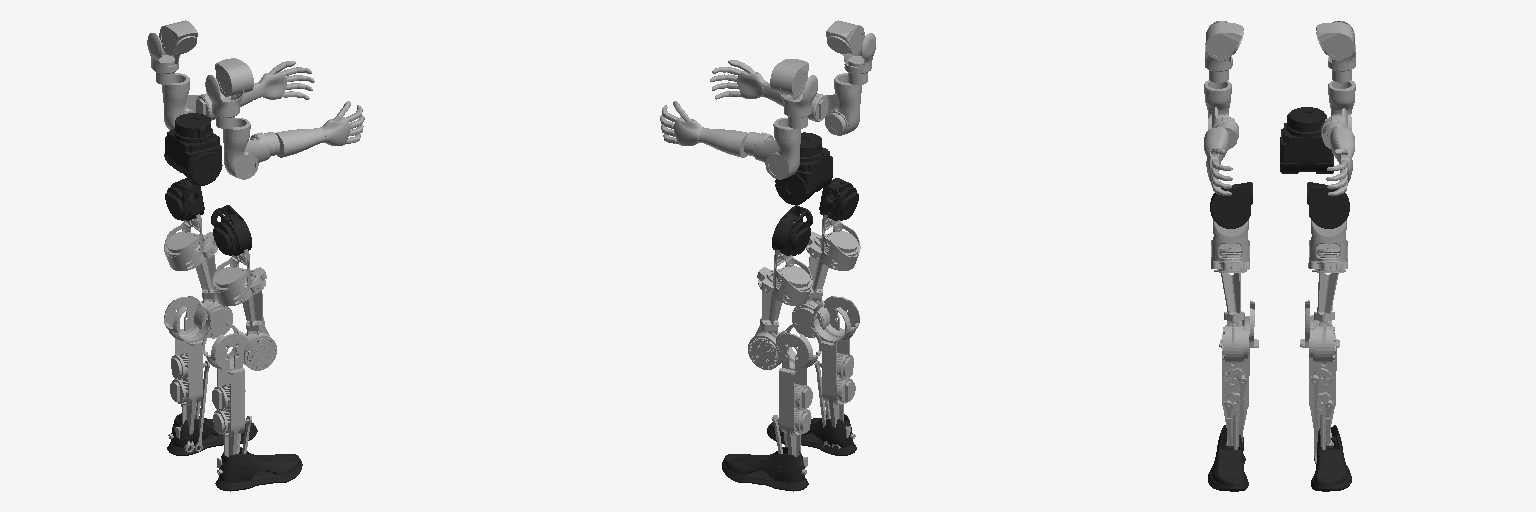
--- Facts derived from the render (not from the file) ---
3 views of the same robot in one strip: view 1: azimuth 30°, elevation 25°; view 2: azimuth 150°, elevation 25°; view 3: azimuth 270°, elevation 25° (orthographic).
Model g1_12dof with 32 links and 31 joints (23 revolute, 7 fixed, 1 floating), rooted at world, posed every joint at zero.
Links seen in each view (by area): view 1: left_knee_link, right_knee_link, pelvis, right_ankle_roll_link, right_wrist_roll_rubber_hand, right_hip_yaw_link, left_hip_yaw_link, left_wrist_roll_rubber_hand, right_hip_roll_link, left_hip_roll_link, right_shoulder_yaw_link, right_hip_pitch_link (+8 smaller); view 2: right_knee_link, left_knee_link, left_ankle_roll_link, pelvis, left_wrist_roll_rubber_hand, left_hip_yaw_link, right_hip_yaw_link, right_wrist_roll_rubber_hand, right_hip_roll_link, left_hip_roll_link, right_ankle_roll_link, right_shoulder_yaw_link (+9 smaller); view 3: pelvis, left_knee_link, right_knee_link, left_hip_yaw_link, right_hip_yaw_link, right_ankle_roll_link, left_ankle_roll_link, right_hip_pitch_link, left_hip_pitch_link, right_wrist_roll_rubber_hand, left_wrist_roll_rubber_hand, left_hip_roll_link (+7 smaller).
Boxes of the visible links, <box> form: left_knee_link: <box>164,296,210,452</box>; right_knee_link: <box>202,324,251,468</box>; pelvis: <box>164,113,222,185</box>; right_ankle_roll_link: <box>215,447,302,491</box>; right_wrist_roll_rubber_hand: <box>275,101,364,157</box>; right_hip_yaw_link: <box>242,267,276,370</box>; left_hip_yaw_link: <box>194,232,232,338</box>; left_wrist_roll_rubber_hand: <box>220,61,314,106</box>; right_hip_roll_link: <box>212,222,252,305</box>; left_hip_roll_link: <box>164,214,204,270</box>; right_shoulder_yaw_link: <box>223,118,258,179</box>; right_hip_pitch_link: <box>211,205,251,255</box>; right_knee_link: <box>813,296,859,448</box>; left_knee_link: <box>772,323,821,467</box>; left_ankle_roll_link: <box>722,447,808,491</box>; pelvis: <box>775,132,832,204</box>; left_wrist_roll_rubber_hand: <box>660,101,747,157</box>; left_hip_yaw_link: <box>748,267,788,369</box>; right_hip_yaw_link: <box>792,232,829,337</box>; right_wrist_roll_rubber_hand: <box>710,60,803,106</box>; right_hip_roll_link: <box>819,214,860,270</box>; left_hip_roll_link: <box>772,222,812,305</box>; right_ankle_roll_link: <box>767,414,856,455</box>; right_shoulder_yaw_link: <box>825,73,861,135</box>; pelvis: <box>1280,107,1333,173</box>; left_knee_link: <box>1300,300,1339,463</box>; right_knee_link: <box>1219,300,1258,449</box>; left_hip_yaw_link: <box>1309,259,1347,366</box>; right_hip_yaw_link: <box>1212,259,1249,366</box>; right_ankle_roll_link: <box>1208,425,1248,491</box>; left_ankle_roll_link: <box>1311,425,1351,491</box>; right_hip_pitch_link: <box>1210,182,1252,228</box>; left_hip_pitch_link: <box>1307,182,1349,228</box>; right_wrist_roll_rubber_hand: <box>1204,127,1232,195</box>; left_wrist_roll_rubber_hand: <box>1326,128,1354,195</box>; left_hip_roll_link: <box>1308,220,1347,269</box>.
Size in the robot's own frame: 0.4388 by 0.3616 by 1.14 metres.
Meshes: 27 distinct files referenced, 23 mesh visuals loaded (23 binary STL); not drawn: 4 (reference not matched to a file when rendering).

The robot description file, URDF, robot "g1_12dof":
<robot name="g1_12dof">
  <mujoco>
    <compiler meshdir="meshes" discardvisual="false"/>
  </mujoco>

  <!-- [CAUTION] uncomment when convert to mujoco -->
  <link name="world"></link>
  <joint name="floating_base_joint" type="floating">
    <parent link="world"/>
    <child link="pelvis"/>
  </joint>

  <link name="pelvis">
    <inertial>
      <origin xyz="0 0 -0.07605" rpy="0 0 0"/>
      <mass value="3.813"/>
      <inertia ixx="0.010549" ixy="0" ixz="2.1E-06" iyy="0.0093089" iyz="0" izz="0.0079184"/>
    </inertial>
    <visual>
      <origin xyz="0 0 0" rpy="0 0 0"/>
      <geometry>
        <mesh filename="meshes/pelvis.STL"/>
      </geometry>
      <material name="dark">
        <color rgba="0.2 0.2 0.2 1"/>
      </material>
    </visual>
  </link>
  <link name="pelvis_contour_link">
    <inertial>
      <origin xyz="0 0 0" rpy="0 0 0"/>
      <mass value="0.001"/>
      <inertia ixx="1e-7" ixy="0" ixz="0" iyy="1e-7" iyz="0" izz="1e-7"/>
    </inertial>
    <visual>
      <origin xyz="0 0 0" rpy="0 0 0"/>
      <geometry>
        <mesh filename="meshes/pelvis_contour_link.STL"/>
      </geometry>
      <material name="white">
        <color rgba="0.7 0.7 0.7 1"/>
      </material>
    </visual>
    <collision>
      <origin xyz="0 0 0" rpy="0 0 0"/>
      <geometry>
        <mesh filename="meshes/pelvis_contour_link.STL"/>
      </geometry>
    </collision>
  </link>
  <joint name="pelvis_contour_joint" type="fixed">
    <parent link="pelvis"/>
    <child link="pelvis_contour_link"/>
  </joint>

  <!-- Legs -->
  <link name="left_hip_pitch_link">
    <inertial>
      <origin xyz="0.002741 0.047791 -0.02606" rpy="0 0 0"/>
      <mass value="1.35"/>
      <inertia ixx="0.001811" ixy="3.68E-05" ixz="-3.44E-05" iyy="0.0014193" iyz="0.000171" izz="0.0012812"/>
    </inertial>
    <visual>
      <origin xyz="0 0 0" rpy="0 0 0"/>
      <geometry>
        <mesh filename="meshes/left_hip_pitch_link.STL"/>
      </geometry>
      <material name="dark">
        <color rgba="0.2 0.2 0.2 1"/>
      </material>
    </visual>
    <collision>
      <origin xyz="0 0 0" rpy="0 0 0"/>
      <geometry>
        <mesh filename="meshes/left_hip_pitch_link.STL"/>
      </geometry>
    </collision>
  </link>
  <joint name="left_hip_pitch_joint" type="revolute">
    <origin xyz="0 0.064452 -0.1027" rpy="0 0 0"/>
    <parent link="pelvis"/>
    <child link="left_hip_pitch_link"/>
    <axis xyz="0 1 0"/>
    <limit lower="-2.5307" upper="2.8798" effort="88" velocity="32"/>
  </joint>
  <link name="left_hip_roll_link">
    <inertial>
      <origin xyz="0.029812 -0.001045 -0.087934" rpy="0 0 0"/>
      <mass value="1.52"/>
      <inertia ixx="0.0023773" ixy="-3.8E-06" ixz="-0.0003908" iyy="0.0024123" iyz="1.84E-05" izz="0.0016595"/>
    </inertial>
    <visual>
      <origin xyz="0 0 0" rpy="0 0 0"/>
      <geometry>
        <mesh filename="meshes/left_hip_roll_link.STL"/>
      </geometry>
      <material name="white">
        <color rgba="0.7 0.7 0.7 1"/>
      </material>
    </visual>
    <collision>
      <origin xyz="0 0 0" rpy="0 0 0"/>
      <geometry>
        <mesh filename="meshes/left_hip_roll_link.STL"/>
      </geometry>
    </collision>
  </link>
  <joint name="left_hip_roll_joint" type="revolute">
    <origin xyz="0 0.052 -0.030465" rpy="0 -0.1749 0"/>
    <parent link="left_hip_pitch_link"/>
    <child link="left_hip_roll_link"/>
    <axis xyz="1 0 0"/>
    <limit lower="-0.5236" upper="2.9671" effort="139" velocity="20"/>
  </joint>
  <link name="left_hip_yaw_link">
    <inertial>
      <origin xyz="-0.057709 -0.010981 -0.15078" rpy="0 0 0"/>
      <mass value="1.702"/>
      <inertia ixx="0.0057774" ixy="-0.0005411" ixz="-0.0023948" iyy="0.0076124" iyz="-0.0007072" izz="0.003149"/>
    </inertial>
    <visual>
      <origin xyz="0 0 0" rpy="0 0 0"/>
      <geometry>
        <mesh filename="meshes/left_hip_yaw_link.STL"/>
      </geometry>
      <material name="white">
        <color rgba="0.7 0.7 0.7 1"/>
      </material>
    </visual>
    <collision>
      <origin xyz="0 0 0" rpy="0 0 0"/>
      <geometry>
        <mesh filename="meshes/left_hip_yaw_link.STL"/>
      </geometry>
    </collision>
  </link>
  <joint name="left_hip_yaw_joint" type="revolute">
    <origin xyz="0.025001 0 -0.12412" rpy="0 0 0"/>
    <parent link="left_hip_roll_link"/>
    <child link="left_hip_yaw_link"/>
    <axis xyz="0 0 1"/>
    <limit lower="-2.7576" upper="2.7576" effort="88" velocity="32"/>
  </joint>
  <link name="left_knee_link">
    <inertial>
      <origin xyz="0.005457 0.003964 -0.12074" rpy="0 0 0"/>
      <mass value="1.932"/>
      <inertia ixx="0.011329" ixy="4.82E-05" ixz="-4.49E-05" iyy="0.011277" iyz="-0.0007146" izz="0.0015168"/>
    </inertial>
    <visual>
      <origin xyz="0 0 0" rpy="0 0 0"/>
      <geometry>
        <mesh filename="meshes/left_knee_link.STL"/>
      </geometry>
      <material name="white">
        <color rgba="0.7 0.7 0.7 1"/>
      </material>
    </visual>
    <collision>
      <origin xyz="0 0 0" rpy="0 0 0"/>
      <geometry>
        <mesh filename="meshes/left_knee_link.STL"/>
      </geometry>
    </collision>
  </link>
  <joint name="left_knee_joint" type="revolute">
    <origin xyz="-0.078273 0.0021489 -0.17734" rpy="0 0.1749 0"/>
    <parent link="left_hip_yaw_link"/>
    <child link="left_knee_link"/>
    <axis xyz="0 1 0"/>
    <limit lower="-0.087267" upper="2.8798" effort="139" velocity="20"/>
  </joint>
  <link name="left_ankle_pitch_link">
    <inertial>
      <origin xyz="-0.007269 0 0.011137" rpy="0 0 0"/>
      <mass value="0.074"/>
      <inertia ixx="0.01" ixy="0" ixz="-2.9E-06" iyy="0.01" iyz="0" izz="0.01"/>
    </inertial>
    <visual>
      <origin xyz="0 0 0" rpy="0 0 0"/>
      <geometry>
        <mesh filename="meshes/left_ankle_pitch_link.STL"/>
      </geometry>
      <material name="white">
        <color rgba="0.7 0.7 0.7 1"/>
      </material>
    </visual>
    <collision>
      <origin xyz="0 0 0" rpy="0 0 0"/>
      <geometry>
        <mesh filename="meshes/left_ankle_pitch_link.STL"/>
      </geometry>
    </collision>
  </link>
  <joint name="left_ankle_pitch_joint" type="revolute">
    <origin xyz="0 -9.4445E-05 -0.30001" rpy="0 0 0"/>
    <parent link="left_knee_link"/>
    <child link="left_ankle_pitch_link"/>
    <axis xyz="0 1 0"/>
    <limit lower="-0.87267" upper="0.5236" effort="50" velocity="37"/>
  </joint>
  <link name="left_ankle_roll_link">
    <inertial>
      <origin xyz="0.026505 0 -0.016425" rpy="0 0 0"/>
      <mass value="0.608"/>
      <inertia ixx="0.01" ixy="2E-07" ixz="8.91E-05" iyy="0.01" iyz="-1E-07" izz="0.01"/>
    </inertial>
    <visual>
      <origin xyz="0 0 0" rpy="0 0 0"/>
      <geometry>
        <mesh filename="meshes/left_ankle_roll_link.STL"/>
      </geometry>
      <material name="dark">
        <color rgba="0.2 0.2 0.2 1"/>
      </material>
    </visual>
    <collision>
      <origin xyz="-0.05 0.025 -0.03" rpy="0 0 0"/>
      <geometry>
        <sphere radius="0.005"/>
      </geometry>
    </collision>
    <collision>
      <origin xyz="-0.05 -0.025 -0.03" rpy="0 0 0"/>
      <geometry>
        <sphere radius="0.005"/>
      </geometry>
    </collision>
    <collision>
      <origin xyz="0.12 0.03 -0.03" rpy="0 0 0"/>
      <geometry>
        <sphere radius="0.005"/>
      </geometry>
    </collision>
    <collision>
      <origin xyz="0.12 -0.03 -0.03" rpy="0 0 0"/>
      <geometry>
        <sphere radius="0.005"/>
      </geometry>
    </collision>
  </link>
  <joint name="left_ankle_roll_joint" type="revolute">
    <origin xyz="0 0 -0.017558" rpy="0 0 0"/>
    <parent link="left_ankle_pitch_link"/>
    <child link="left_ankle_roll_link"/>
    <axis xyz="1 0 0"/>
    <limit lower="-0.2618" upper="0.2618" effort="50" velocity="37"/>
  </joint>
  <link name="right_hip_pitch_link">
    <inertial>
      <origin xyz="0.002741 -0.047791 -0.02606" rpy="0 0 0"/>
      <mass value="1.35"/>
      <inertia ixx="0.001811" ixy="-3.68E-05" ixz="-3.44E-05" iyy="0.0014193" iyz="-0.000171" izz="0.0012812"/>
    </inertial>
    <visual>
      <origin xyz="0 0 0" rpy="0 0 0"/>
      <geometry>
        <mesh filename="meshes/right_hip_pitch_link.STL"/>
      </geometry>
      <material name="dark">
        <color rgba="0.2 0.2 0.2 1"/>
      </material>
    </visual>
    <collision>
      <origin xyz="0 0 0" rpy="0 0 0"/>
      <geometry>
        <mesh filename="meshes/right_hip_pitch_link.STL"/>
      </geometry>
    </collision>
  </link>
  <joint name="right_hip_pitch_joint" type="revolute">
    <origin xyz="0 -0.064452 -0.1027" rpy="0 0 0"/>
    <parent link="pelvis"/>
    <child link="right_hip_pitch_link"/>
    <axis xyz="0 1 0"/>
    <limit lower="-2.5307" upper="2.8798" effort="88" velocity="32"/>
  </joint>
  <link name="right_hip_roll_link">
    <inertial>
      <origin xyz="0.029812 0.001045 -0.087934" rpy="0 0 0"/>
      <mass value="1.52"/>
      <inertia ixx="0.0023773" ixy="3.8E-06" ixz="-0.0003908" iyy="0.0024123" iyz="-1.84E-05" izz="0.0016595"/>
    </inertial>
    <visual>
      <origin xyz="0 0 0" rpy="0 0 0"/>
      <geometry>
        <mesh filename="meshes/right_hip_roll_link.STL"/>
      </geometry>
      <material name="white">
        <color rgba="0.7 0.7 0.7 1"/>
      </material>
    </visual>
    <collision>
      <origin xyz="0 0 0" rpy="0 0 0"/>
      <geometry>
        <mesh filename="meshes/right_hip_roll_link.STL"/>
      </geometry>
    </collision>
  </link>
  <joint name="right_hip_roll_joint" type="revolute">
    <origin xyz="0 -0.052 -0.030465" rpy="0 -0.1749 0"/>
    <parent link="right_hip_pitch_link"/>
    <child link="right_hip_roll_link"/>
    <axis xyz="1 0 0"/>
    <limit lower="-2.9671" upper="0.5236" effort="139" velocity="20"/>
  </joint>
  <link name="right_hip_yaw_link">
    <inertial>
      <origin xyz="-0.057709 0.010981 -0.15078" rpy="0 0 0"/>
      <mass value="1.702"/>
      <inertia ixx="0.0057774" ixy="0.0005411" ixz="-0.0023948" iyy="0.0076124" iyz="0.0007072" izz="0.003149"/>
    </inertial>
    <visual>
      <origin xyz="0 0 0" rpy="0 0 0"/>
      <geometry>
        <mesh filename="meshes/right_hip_yaw_link.STL"/>
      </geometry>
      <material name="white">
        <color rgba="0.7 0.7 0.7 1"/>
      </material>
    </visual>
    <collision>
      <origin xyz="0 0 0" rpy="0 0 0"/>
      <geometry>
        <mesh filename="meshes/right_hip_yaw_link.STL"/>
      </geometry>
    </collision>
  </link>
  <joint name="right_hip_yaw_joint" type="revolute">
    <origin xyz="0.025001 0 -0.12412" rpy="0 0 0"/>
    <parent link="right_hip_roll_link"/>
    <child link="right_hip_yaw_link"/>
    <axis xyz="0 0 1"/>
    <limit lower="-2.7576" upper="2.7576" effort="88" velocity="32"/>
  </joint>
  <link name="right_knee_link">
    <inertial>
      <origin xyz="0.005457 -0.003964 -0.12074" rpy="0 0 0"/>
      <mass value="1.932"/>
      <inertia ixx="0.011329" ixy="-4.82E-05" ixz="4.49E-05" iyy="0.011277" iyz="0.0007146" izz="0.0015168"/>
    </inertial>
    <visual>
      <origin xyz="0 0 0" rpy="0 0 0"/>
      <geometry>
        <mesh filename="meshes/right_knee_link.STL"/>
      </geometry>
      <material name="white">
        <color rgba="0.7 0.7 0.7 1"/>
      </material>
    </visual>
    <collision>
      <origin xyz="0 0 0" rpy="0 0 0"/>
      <geometry>
        <mesh filename="meshes/right_knee_link.STL"/>
      </geometry>
    </collision>
  </link>
  <joint name="right_knee_joint" type="revolute">
    <origin xyz="-0.078273 -0.0021489 -0.17734" rpy="0 0.1749 0"/>
    <parent link="right_hip_yaw_link"/>
    <child link="right_knee_link"/>
    <axis xyz="0 1 0"/>
    <limit lower="-0.087267" upper="2.8798" effort="139" velocity="20"/>
  </joint>
  <link name="right_ankle_pitch_link">
    <inertial>
      <origin xyz="-0.007269 0 0.011137" rpy="0 0 0"/>
      <mass value="0.074"/>
      <inertia ixx="0.01" ixy="0" ixz="-2.9E-06" iyy="0.01" iyz="0" izz="0.01"/>
    </inertial>
    <visual>
      <origin xyz="0 0 0" rpy="0 0 0"/>
      <geometry>
        <mesh filename="meshes/right_ankle_pitch_link.STL"/>
      </geometry>
      <material name="white">
        <color rgba="0.7 0.7 0.7 1"/>
      </material>
    </visual>
    <collision>
      <origin xyz="0 0 0" rpy="0 0 0"/>
      <geometry>
        <mesh filename="meshes/right_ankle_pitch_link.STL"/>
      </geometry>
    </collision>
  </link>
  <joint name="right_ankle_pitch_joint" type="revolute">
    <origin xyz="0 9.4445E-05 -0.30001" rpy="0 0 0"/>
    <parent link="right_knee_link"/>
    <child link="right_ankle_pitch_link"/>
    <axis xyz="0 1 0"/>
    <limit lower="-0.87267" upper="0.5236" effort="50" velocity="37"/>
  </joint>
  <link name="right_ankle_roll_link">
    <inertial>
      <origin xyz="0.026505 0 -0.016425" rpy="0 0 0"/>
      <mass value="0.608"/>
      <inertia ixx="0.01" ixy="-2E-07" ixz="8.91E-05" iyy="0.01" iyz="1E-07" izz="0.01"/>
    </inertial>
    <visual>
      <origin xyz="0 0 0" rpy="0 0 0"/>
      <geometry>
        <mesh filename="meshes/right_ankle_roll_link.STL"/>
      </geometry>
      <material name="dark">
        <color rgba="0.2 0.2 0.2 1"/>
      </material>
    </visual>
    <collision>
      <origin xyz="-0.05 0.025 -0.03" rpy="0 0 0"/>
      <geometry>
        <sphere radius="0.005"/>
      </geometry>
    </collision>
    <collision>
      <origin xyz="-0.05 -0.025 -0.03" rpy="0 0 0"/>
      <geometry>
        <sphere radius="0.005"/>
      </geometry>
    </collision>
    <collision>
      <origin xyz="0.12 0.03 -0.03" rpy="0 0 0"/>
      <geometry>
        <sphere radius="0.005"/>
      </geometry>
    </collision>
    <collision>
      <origin xyz="0.12 -0.03 -0.03" rpy="0 0 0"/>
      <geometry>
        <sphere radius="0.005"/>
      </geometry>
    </collision>
  </link>
  <joint name="right_ankle_roll_joint" type="revolute">
    <origin xyz="0 0 -0.017558" rpy="0 0 0"/>
    <parent link="right_ankle_pitch_link"/>
    <child link="right_ankle_roll_link"/>
    <axis xyz="1 0 0"/>
    <limit lower="-0.2618" upper="0.2618" effort="50" velocity="37"/>
  </joint>

  <!-- Torso -->
  <joint name="waist_yaw_joint" type="revolute">
    <origin xyz="-0.0039635 0 0.044" rpy="0 0 0"/>
    <parent link="pelvis"/>
    <child link="torso_link"/>
    <axis xyz="0 0 1"/>
    <limit lower="-2.618" upper="2.618" effort="88" velocity="32"/>
  </joint>
  <link name="torso_link">
    <inertial>
      <origin xyz="0.000931 0.000346 0.15082" rpy="0 0 0"/>
      <mass value="6.78"/>
      <inertia ixx="0.05905" ixy="3.3302E-05" ixz="-0.0017715" iyy="0.047014" iyz="-2.2399E-05" izz="0.025652"/>
    </inertial>
    <visual>
      <origin xyz="0.0039635 0 -0.044" rpy="0 0 0"/>
      <geometry>
        <mesh filename="meshes/torso_link_23dof_rev_1_0.STL"/>
      </geometry>
      <material name="white">
        <color rgba="0.7 0.7 0.7 1"/>
      </material>
    </visual>
    <collision>
      <origin xyz="0.0039635 0 -0.044" rpy="0 0 0"/>
      <geometry>
        <mesh filename="meshes/torso_link_23dof_rev_1_0.STL"/>
      </geometry>
    </collision>
  </link>

  <!-- LOGO -->
  <joint name="logo_joint" type="fixed">
    <origin xyz="0.0039635 0 -0.044" rpy="0 0 0"/>
    <parent link="torso_link"/>
    <child link="logo_link"/>
  </joint>
  <link name="logo_link">
    <inertial>
      <origin xyz="0 0 0" rpy="0 0 0"/>
      <mass value="0.001"/>
      <inertia ixx="1e-7" ixy="0" ixz="0" iyy="1e-7" iyz="0" izz="1e-7"/>
    </inertial>
    <visual>
      <origin xyz="0 0 0" rpy="0 0 0"/>
      <geometry>
        <mesh filename="meshes/logo_link.STL"/>
      </geometry>
      <material name="dark">
        <color rgba="0.2 0.2 0.2 1"/>
      </material>
    </visual>
    <collision>
      <origin xyz="0 0 0" rpy="0 0 0"/>
      <geometry>
        <mesh filename="meshes/logo_link.STL"/>
      </geometry>
    </collision>
  </link>

  <!-- Head -->
  <link name="head_link">
    <inertial>
      <origin xyz="0.005267 0.000299 0.449869" rpy="0 0 0"/>
      <mass value="1.036"/>
      <inertia ixx="0.004085051" ixy="-2.543E-06" ixz="-6.9455E-05" iyy="0.004185212" iyz="-3.726E-06" izz="0.001807911"/>
    </inertial>
    <visual>
      <origin xyz="0 0 0" rpy="0 0 0"/>
      <geometry>
        <mesh filename="meshes/head_link.STL"/>
      </geometry>
      <material name="dark">
        <color rgba="0.2 0.2 0.2 1"/>
      </material>
    </visual>
    <collision>
      <origin xyz="0 0 0" rpy="0 0 0"/>
      <geometry>
        <mesh filename="meshes/head_link.STL"/>
      </geometry>
    </collision>
  </link>
  <joint name="head_joint" type="fixed">
    <origin xyz="0.0039635 0 -0.044" rpy="0 0 0"/>
    <parent link="torso_link"/>
    <child link="head_link"/>
  </joint>


  <!-- IMU -->
  <link name="imu_in_torso"></link>
  <joint name="imu_in_torso_joint" type="fixed">
    <origin xyz="-0.03959 -0.00224 0.14792" rpy="0 0 0"/>
    <parent link="torso_link"/>
    <child link="imu_in_torso"/>
  </joint>

  <link name="imu_in_pelvis"></link>
  <joint name="imu_in_pelvis_joint" type="fixed">
    <origin xyz="0.04525 0 -0.08339" rpy="0 0 0"/>
    <parent link="pelvis"/>
    <child link="imu_in_pelvis"/>
  </joint>

  <!-- d435 -->
  <link name="d435_link"></link>
  <joint name="d435_joint" type="fixed">
    <origin xyz="0.0576235 0.01753 0.42987" rpy="0 0.8307767239493009 0"/>
    <parent link="torso_link"/>
    <child link="d435_link"/>
  </joint>

  <!-- mid360 -->
  <link name="mid360_link"></link>
  <joint name="mid360_joint" type="fixed">
    <origin xyz="0.0002835 0.00003 0.41618" rpy="0 0.04014257279586953 0"/>
    <parent link="torso_link"/>
    <child link="mid360_link"/>
  </joint>

  <!-- Arm -->
  <link name="left_shoulder_pitch_link">
    <inertial>
      <origin xyz="0 0.035892 -0.011628" rpy="0 0 0"/>
      <mass value="0.718"/>
      <inertia ixx="0.0004291" ixy="-9.2E-06" ixz="6.4E-06" iyy="0.000453" iyz="2.26E-05" izz="0.000423"/>
    </inertial>
    <visual>
      <origin xyz="0 0 0" rpy="0 0 0"/>
      <geometry>
        <mesh filename="meshes/left_shoulder_pitch_link.STL"/>
      </geometry>
      <material name="white">
        <color rgba="0.7 0.7 0.7 1"/>
      </material>
    </visual>
    <collision>
      <origin xyz="0 0.04 -0.01" rpy="0 1.5707963267948966 0"/>
      <geometry>
        <cylinder radius="0.03" length="0.05"/>
      </geometry>
    </collision>
  </link>
  <joint name="left_shoulder_pitch_joint" type="revolute">
    <origin xyz="0.0039563 0.10022 0.24778" rpy="0.27931 5.4949E-05 -0.00019159"/>
    <parent link="torso_link"/>
    <child link="left_shoulder_pitch_link"/>
    <axis xyz="0 1 0"/>
    <limit lower="-3.0892" upper="2.6704" effort="25" velocity="37"/>
  </joint>
  <link name="left_shoulder_roll_link">
    <inertial>
      <origin xyz="-0.000227 0.00727 -0.063243" rpy="0 0 0"/>
      <mass value="0.643"/>
      <inertia ixx="0.0006177" ixy="-1E-06" ixz="8.7E-06" iyy="0.0006912" iyz="-5.3E-06" izz="0.0003894"/>
    </inertial>
    <visual>
      <origin xyz="0 0 0" rpy="0 0 0"/>
      <geometry>
        <mesh filename="meshes/left_shoulder_roll_link.STL"/>
      </geometry>
      <material name="white">
        <color rgba="0.7 0.7 0.7 1"/>
      </material>
    </visual>
    <collision>
      <origin xyz="-0.004 0.006 -0.053" rpy="0 0 0"/>
      <geometry>
        <cylinder radius="0.03" length="0.03"/>
      </geometry>
    </collision>
  </link>
  <joint name="left_shoulder_roll_joint" type="revolute">
    <origin xyz="0 0.038 -0.013831" rpy="-0.27925 0 0"/>
    <parent link="left_shoulder_pitch_link"/>
    <child link="left_shoulder_roll_link"/>
    <axis xyz="1 0 0"/>
    <limit lower="-1.5882" upper="2.2515" effort="25" velocity="37"/>
  </joint>
  <link name="left_shoulder_yaw_link">
    <inertial>
      <origin xyz="0.010773 -0.002949 -0.072009" rpy="0 0 0"/>
      <mass value="0.734"/>
      <inertia ixx="0.0009988" ixy="7.9E-06" ixz="0.0001412" iyy="0.0010605" iyz="-2.86E-05" izz="0.0004354"/>
    </inertial>
    <visual>
      <origin xyz="0 0 0" rpy="0 0 0"/>
      <geometry>
        <mesh filename="meshes/left_shoulder_yaw_link.STL"/>
      </geometry>
      <material name="white">
        <color rgba="0.7 0.7 0.7 1"/>
      </material>
    </visual>
    <collision>
      <origin xyz="0 0 0" rpy="0 0 0"/>
      <geometry>
        <mesh filename="meshes/left_shoulder_yaw_link.STL"/>
      </geometry>
    </collision>
  </link>
  <joint name="left_shoulder_yaw_joint" type="revolute">
    <origin xyz="0 0.00624 -0.1032" rpy="0 0 0"/>
    <parent link="left_shoulder_roll_link"/>
    <child link="left_shoulder_yaw_link"/>
    <axis xyz="0 0 1"/>
    <limit lower="-2.618" upper="2.618" effort="25" velocity="37"/>
  </joint>
  <link name="left_elbow_link">
    <inertial>
      <origin xyz="0.064956 0.004454 -0.010062" rpy="0 0 0"/>
      <mass value="0.6"/>
      <inertia ixx="0.0002891" ixy="6.53E-05" ixz="1.72E-05" iyy="0.0004152" iyz="-5.6E-06" izz="0.0004197"/>
    </inertial>
    <visual>
      <origin xyz="0 0 0" rpy="0 0 0"/>
      <geometry>
        <mesh filename="meshes/left_elbow_link.STL"/>
      </geometry>
      <material name="white">
        <color rgba="0.7 0.7 0.7 1"/>
      </material>
    </visual>
    <collision>
      <origin xyz="0 0 0" rpy="0 0 0"/>
      <geometry>
        <mesh filename="meshes/left_elbow_link.STL"/>
      </geometry>
    </collision>
  </link>
  <joint name="left_elbow_joint" type="revolute">
    <origin xyz="0.015783 0 -0.080518" rpy="0 0 0"/>
    <parent link="left_shoulder_yaw_link"/>
    <child link="left_elbow_link"/>
    <axis xyz="0 1 0"/>
    <limit lower="-1.0472" upper="2.0944" effort="25" velocity="37"/>
  </joint>
  <joint name="left_wrist_roll_joint" type="revolute">
    <origin xyz="0.100 0.00188791 -0.010" rpy="0 0 0"/>
    <axis xyz="1 0 0"/>
    <parent link="left_elbow_link"/>
    <child link="left_wrist_roll_rubber_hand"/>
    <limit effort="25" velocity="37" lower="-1.972222054" upper="1.972222054"/>
  </joint>
  <link name="left_wrist_roll_rubber_hand">
    <inertial>
      <origin xyz="0.10794656650 0.00163511945 0.00202244863" rpy="0 0 0"/>
      <mass value="0.35692864"/>
      <inertia ixx="0.00019613494735" ixy="-0.00000419816908" ixz="-0.00003950860580" iyy="0.00200280358206" iyz="0.00000249774203" izz="0.00194181412808"/>
    </inertial>
    <visual>
      <origin xyz="0 0 0" rpy="0 0 0"/>
      <geometry>
        <mesh filename="meshes/left_wrist_roll_rubber_hand.STL"/>
      </geometry>
      <material name="white">
        <color rgba="0.7 0.7 0.7 1"/>
      </material>
    </visual>
    <collision>
      <origin xyz="0 0 0" rpy="0 0 0"/>
      <geometry>
        <mesh filename="meshes/left_wrist_roll_rubber_hand.STL"/>
      </geometry>
    </collision>
  </link>
  <link name="right_shoulder_pitch_link">
    <inertial>
      <origin xyz="0 -0.035892 -0.011628" rpy="0 0 0"/>
      <mass value="0.718"/>
      <inertia ixx="0.0004291" ixy="9.2E-06" ixz="6.4E-06" iyy="0.000453" iyz="-2.26E-05" izz="0.000423"/>
    </inertial>
    <visual>
      <origin xyz="0 0 0" rpy="0 0 0"/>
      <geometry>
        <mesh filename="meshes/right_shoulder_pitch_link.STL"/>
      </geometry>
      <material name="white">
        <color rgba="0.7 0.7 0.7 1"/>
      </material>
    </visual>
    <collision>
      <origin xyz="0 -0.04 -0.01" rpy="0 1.5707963267948966 0"/>
      <geometry>
        <cylinder radius="0.03" length="0.05"/>
      </geometry>
    </collision>
  </link>
  <joint name="right_shoulder_pitch_joint" type="revolute">
    <origin xyz="0.0039563 -0.10021 0.24778" rpy="-0.27931 5.4949E-05 0.00019159"/>
    <parent link="torso_link"/>
    <child link="right_shoulder_pitch_link"/>
    <axis xyz="0 1 0"/>
    <limit lower="-3.0892" upper="2.6704" effort="25" velocity="37"/>
  </joint>
  <link name="right_shoulder_roll_link">
    <inertial>
      <origin xyz="-0.000227 -0.00727 -0.063243" rpy="0 0 0"/>
      <mass value="0.643"/>
      <inertia ixx="0.0006177" ixy="1E-06" ixz="8.7E-06" iyy="0.0006912" iyz="5.3E-06" izz="0.0003894"/>
    </inertial>
    <visual>
      <origin xyz="0 0 0" rpy="0 0 0"/>
      <geometry>
        <mesh filename="meshes/right_shoulder_roll_link.STL"/>
      </geometry>
      <material name="white">
        <color rgba="0.7 0.7 0.7 1"/>
      </material>
    </visual>
    <collision>
      <origin xyz="-0.004 -0.006 -0.053" rpy="0 0 0"/>
      <geometry>
        <cylinder radius="0.03" length="0.03"/>
      </geometry>
    </collision>
  </link>
  <joint name="right_shoulder_roll_joint" type="revolute">
    <origin xyz="0 -0.038 -0.013831" rpy="0.27925 0 0"/>
    <parent link="right_shoulder_pitch_link"/>
    <child link="right_shoulder_roll_link"/>
    <axis xyz="1 0 0"/>
    <limit lower="-2.2515" upper="1.5882" effort="25" velocity="37"/>
  </joint>
  <link name="right_shoulder_yaw_link">
    <inertial>
      <origin xyz="0.010773 0.002949 -0.072009" rpy="0 0 0"/>
      <mass value="0.734"/>
      <inertia ixx="0.0009988" ixy="-7.9E-06" ixz="0.0001412" iyy="0.0010605" iyz="2.86E-05" izz="0.0004354"/>
    </inertial>
    <visual>
      <origin xyz="0 0 0" rpy="0 0 0"/>
      <geometry>
        <mesh filename="meshes/right_shoulder_yaw_link.STL"/>
      </geometry>
      <material name="white">
        <color rgba="0.7 0.7 0.7 1"/>
      </material>
    </visual>
    <collision>
      <origin xyz="0 0 0" rpy="0 0 0"/>
      <geometry>
        <mesh filename="meshes/right_shoulder_yaw_link.STL"/>
      </geometry>
    </collision>
  </link>
  <joint name="right_shoulder_yaw_joint" type="revolute">
    <origin xyz="0 -0.00624 -0.1032" rpy="0 0 0"/>
    <parent link="right_shoulder_roll_link"/>
    <child link="right_shoulder_yaw_link"/>
    <axis xyz="0 0 1"/>
    <limit lower="-2.618" upper="2.618" effort="25" velocity="37"/>
  </joint>
  <link name="right_elbow_link">
    <inertial>
      <origin xyz="0.064956 -0.004454 -0.010062" rpy="0 0 0"/>
      <mass value="0.6"/>
      <inertia ixx="0.0002891" ixy="-6.53E-05" ixz="1.72E-05" iyy="0.0004152" iyz="5.6E-06" izz="0.0004197"/>
    </inertial>
    <visual>
      <origin xyz="0 0 0" rpy="0 0 0"/>
      <geometry>
        <mesh filename="meshes/right_elbow_link.STL"/>
      </geometry>
      <material name="white">
        <color rgba="0.7 0.7 0.7 1"/>
      </material>
    </visual>
    <collision>
      <origin xyz="0 0 0" rpy="0 0 0"/>
      <geometry>
        <mesh filename="meshes/right_elbow_link.STL"/>
      </geometry>
    </collision>
  </link>
  <joint name="right_elbow_joint" type="revolute">
    <origin xyz="0.015783 0 -0.080518" rpy="0 0 0"/>
    <parent link="right_shoulder_yaw_link"/>
    <child link="right_elbow_link"/>
    <axis xyz="0 1 0"/>
    <limit lower="-1.0472" upper="2.0944" effort="25" velocity="37"/>
  </joint>
  <joint name="right_wrist_roll_joint" type="revolute">
    <origin xyz="0.100 -0.00188791 -0.010" rpy="0 0 0"/>
    <axis xyz="1 0 0"/>
    <parent link="right_elbow_link"/>
    <child link="right_wrist_roll_rubber_hand"/>
    <limit effort="25" velocity="37" lower="-1.972222054" upper="1.972222054"/>
  </joint>
  <link name="right_wrist_roll_rubber_hand">
    <inertial>
      <origin xyz="0.10794656650 -0.00163511945 0.00202244863" rpy="0 0 0"/>
      <mass value="0.35692864"/>
      <inertia ixx="0.00019613494735" ixy="0.00000419816908" ixz="-0.00003950860580" iyy="0.00200280358206" iyz="-0.00000249774203" izz="0.00194181412808"/>
    </inertial>
    <visual>
      <origin xyz="0 0 0" rpy="0 0 0"/>
      <geometry>
        <mesh filename="meshes/right_wrist_roll_rubber_hand.STL"/>
      </geometry>
      <material name="white">
        <color rgba="0.7 0.7 0.7 1"/>
      </material>
    </visual>
    <collision>
      <origin xyz="0 0 0" rpy="0 0 0"/>
      <geometry>
        <mesh filename="meshes/right_wrist_roll_rubber_hand.STL"/>
      </geometry>
    </collision>
  </link>
</robot>
